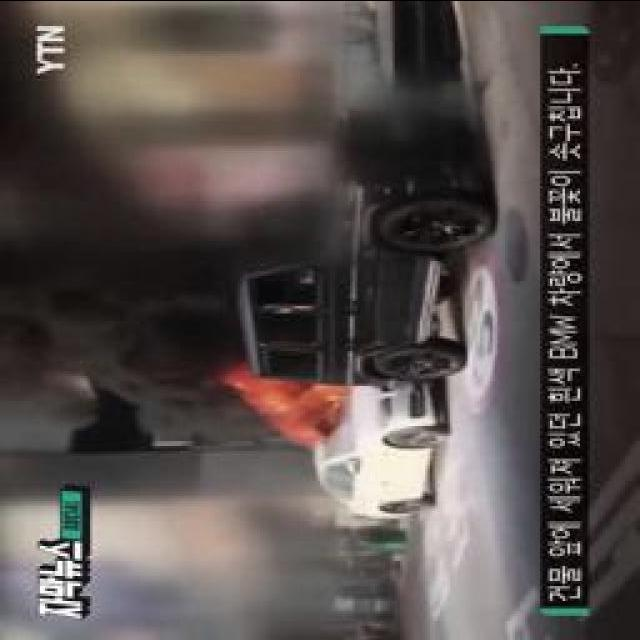Fire: (248, 374, 354, 442)
